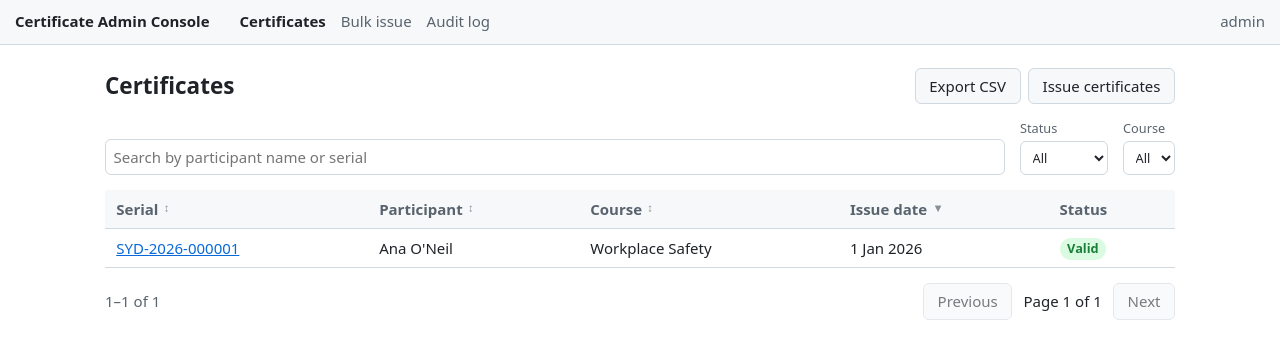
Test case: Export CSV on the list page › shows a spinner and blocks a second export while downloading
This screenshot has width=1280, height=337.
Check: the table is shown, box [105,190,1175,268]
What coordinates should you click on to do the following:
click the button "Export CSV"
I would click on:
 (968, 86)
Its box is [915,68,1021,104].
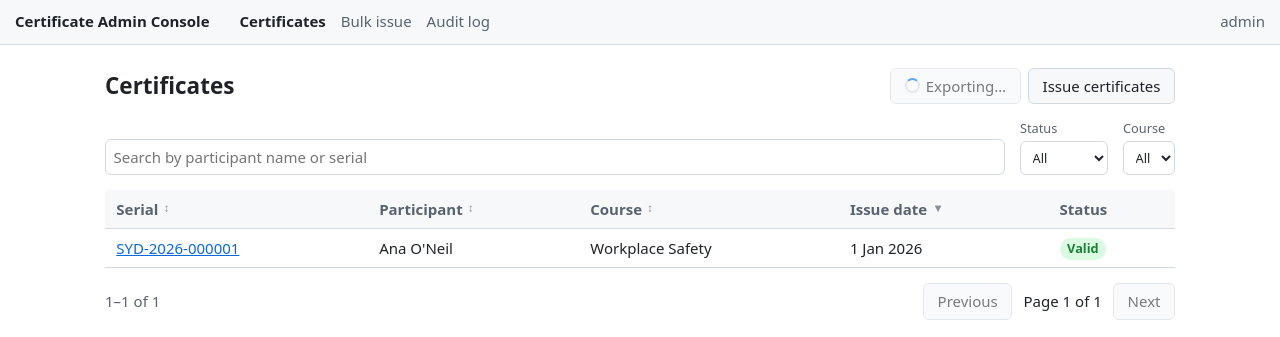
Check: the button "Exporting…" is disabled
What coordinates should you click on to do the following:
click the button "Exporting…"
I would click on:
 (955, 86)
Its box is [890,68,1020,104].
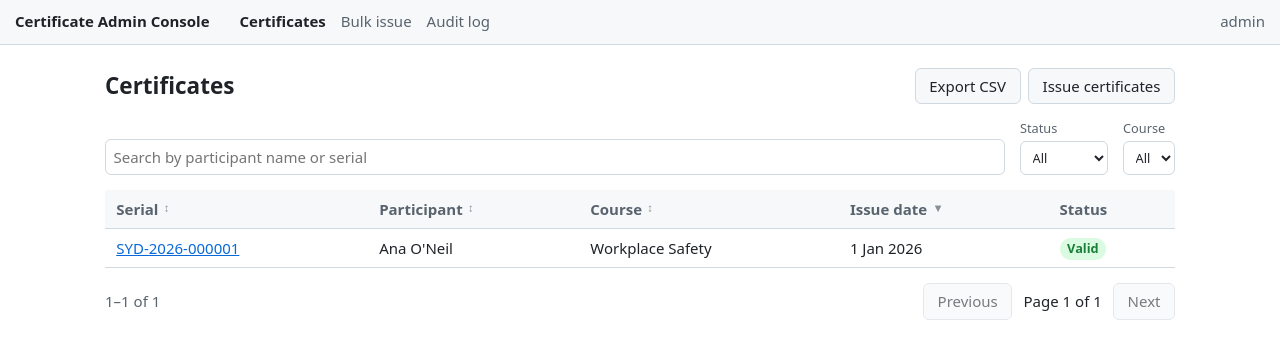
Check: the button "Export CSV" is enabled, box [915,68,1021,104]
